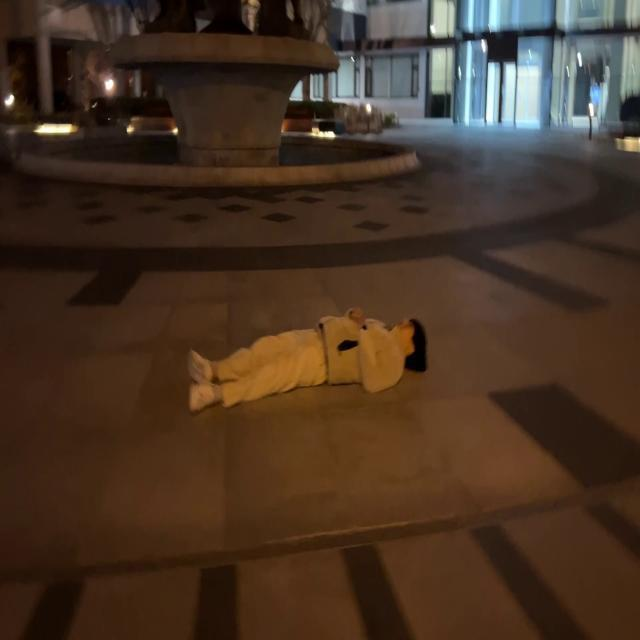Fall: (188, 309, 427, 412)
